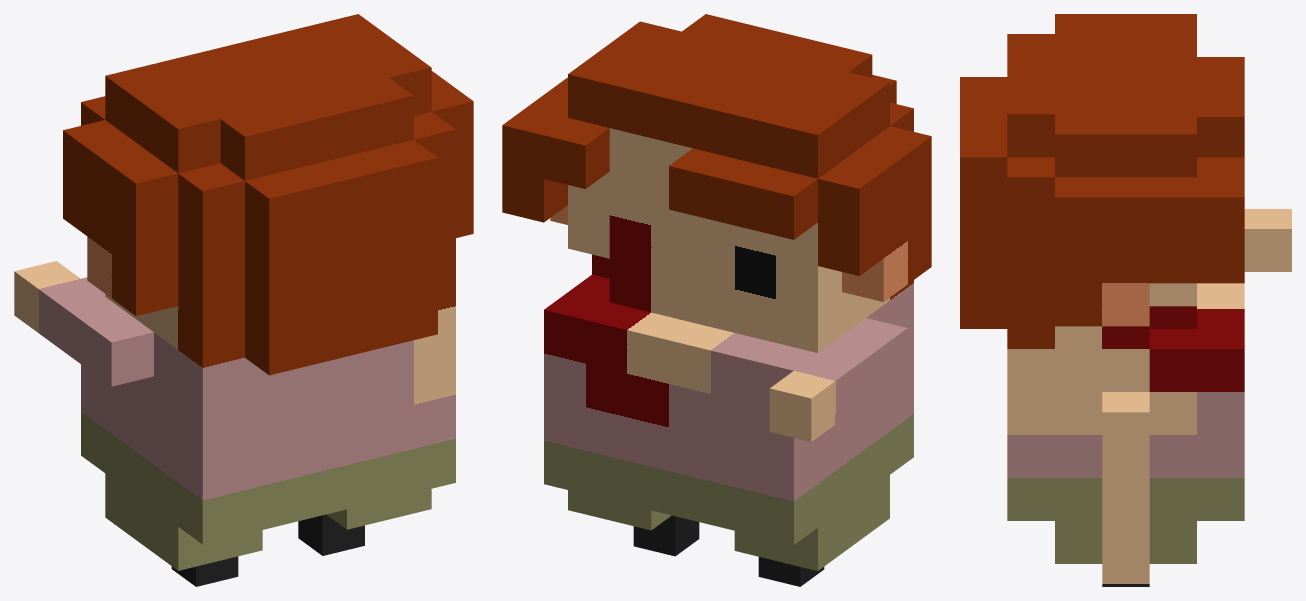
Rendered from chr_zombie1.dae.
3 renders of one model, left to right at view 1: azimuth 30°, elevation 25°; view 2: azimuth 150°, elevation 25°; view 3: azimuth 270°, elevation 25°, orthographic. The views are drawn at different scales.
Visible parts, largest first — view 1: chr_zombie1; view 2: chr_zombie1; view 3: chr_zombie1.
Part boxes in pixels (x1,y1,x2,y2): chr_zombie1: (14,14,473,586); chr_zombie1: (502,14,931,586); chr_zombie1: (960,14,1291,586).
Bounding box in the file's own units: 0.8 × 0.7 × 1.1.
1 material, 1 textured.
